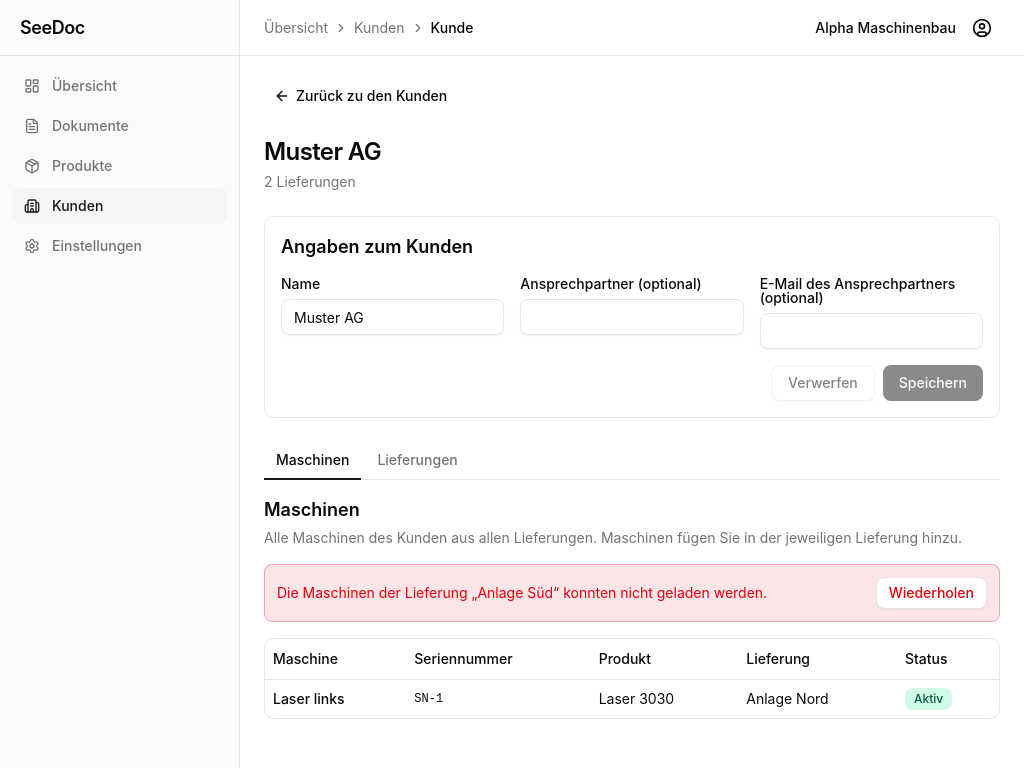
Test: CustomerMachines › keeps the other machines when one delivery cannot be loaded and retries it
Expected: the message shows "Die Maschinen der Lieferung „Anlage Süd“ konnten nicht geladen werden.", top-left (277, 584), bottom-right (767, 601)
Expected: the cell "Laser links" is shown, top-left (265, 679), bottom-right (406, 718)
Click the button "Wiederholen".
click(931, 593)  # box top-left (876, 577), bottom-right (987, 609)
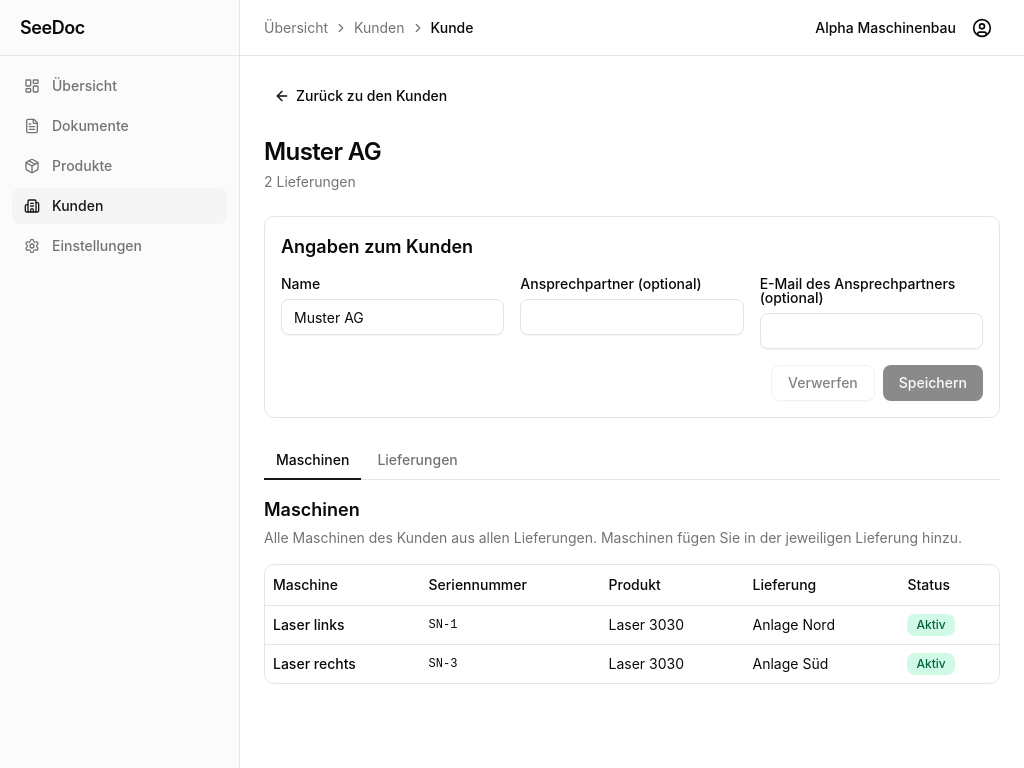
Now the cell "Laser rechts" is shown, box top-left (265, 644), bottom-right (421, 682)
Now the message is gone
